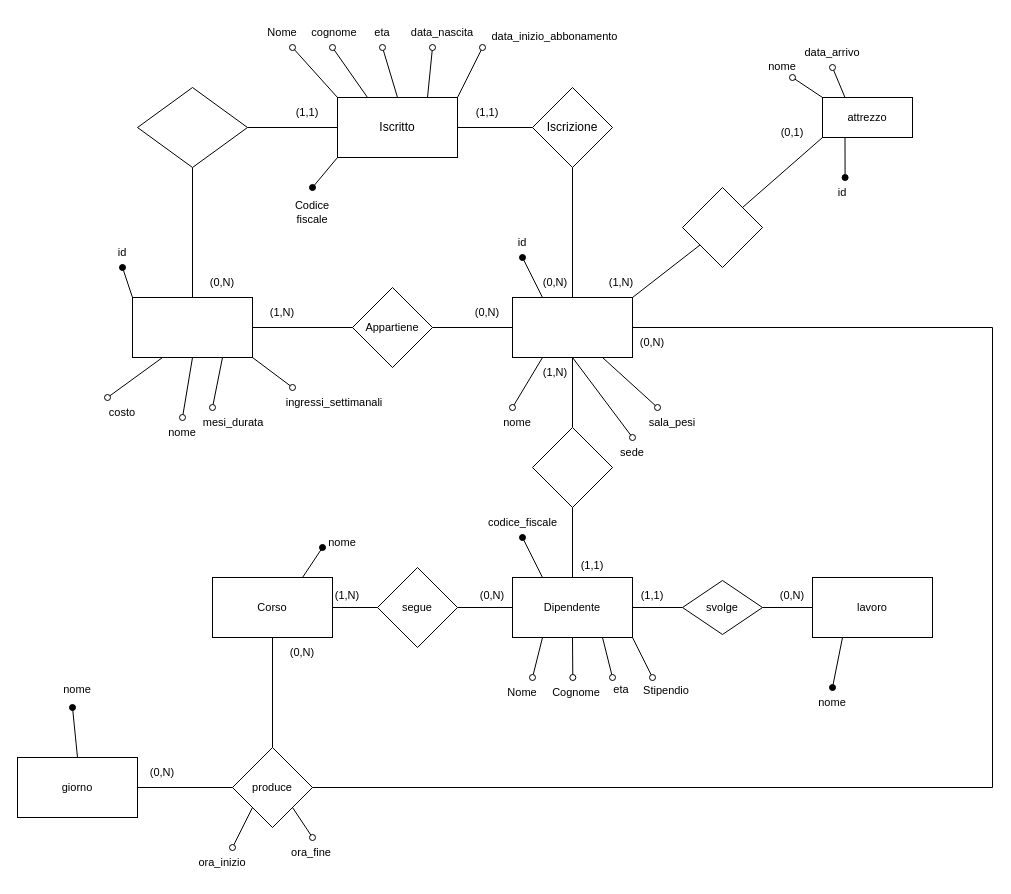
The diagram is 1011 pixels wide and 894 high, and some of its shapes have lost their labels. The shapes that lost their labels are listed below. From the top down, each one's centre as x and y in pixels, then its label:
At point 192,127: "sottoscrivere".
At point 722,227: "possiede".
At point 192,327: "Abbonamento".
At point 572,327: "Palestra".
At point 572,467: "lavora".
